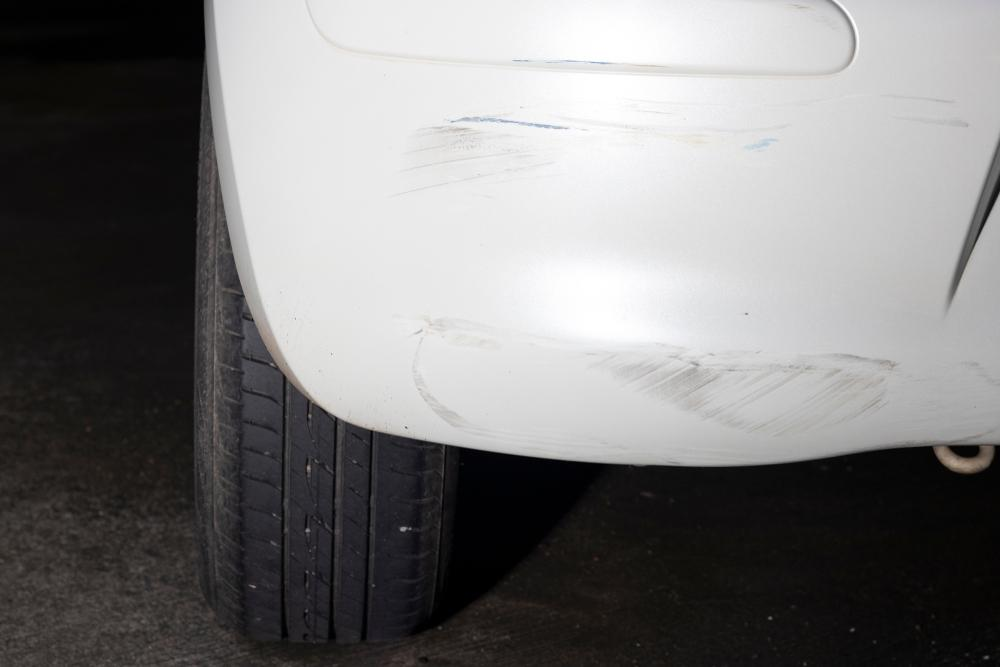scratch: (410, 312, 1000, 463), (392, 92, 975, 199)
